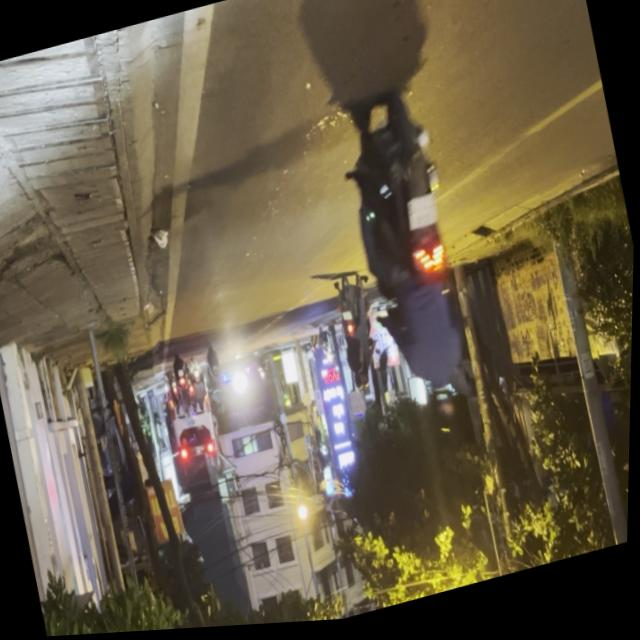helmet: (429, 385, 466, 440)
licenseplate: (327, 89, 496, 456)
nohelmet: (407, 200, 442, 236)
